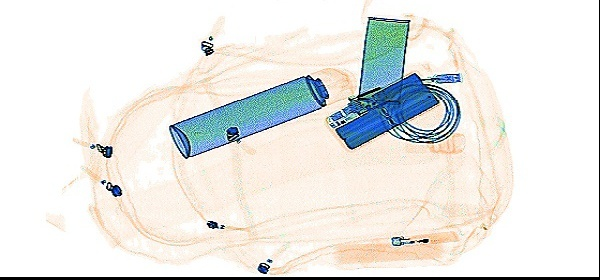powerbank: (322, 68, 439, 151)
pressure: (165, 63, 356, 158)
zippooil: (357, 15, 409, 104)
